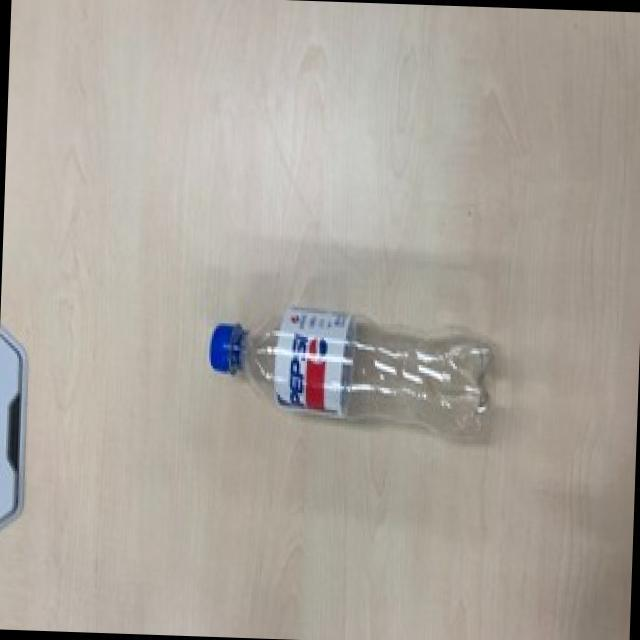good: (195, 302, 503, 443)
